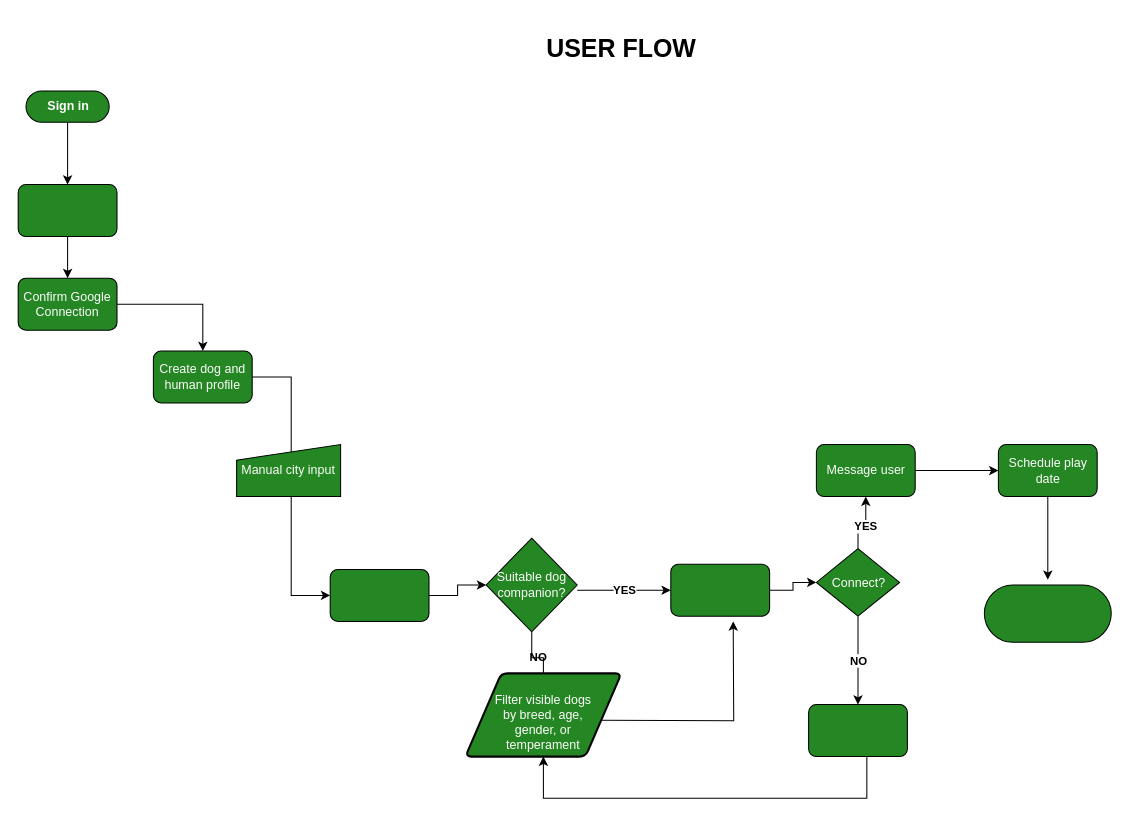
Some shapes in this 1129 by 825 pixel diagram are drawn without their labels. The centre of each missing label's shape, as x and y in pixels:
"Browse nearby dog profiles" belongs at point (379, 594).
"Connect with Google" belongs at point (67, 210).
"Return to filter results page" belongs at point (857, 730).
"Save play date to calendar" belongs at point (1047, 613).
"View user details" belongs at point (720, 589).
